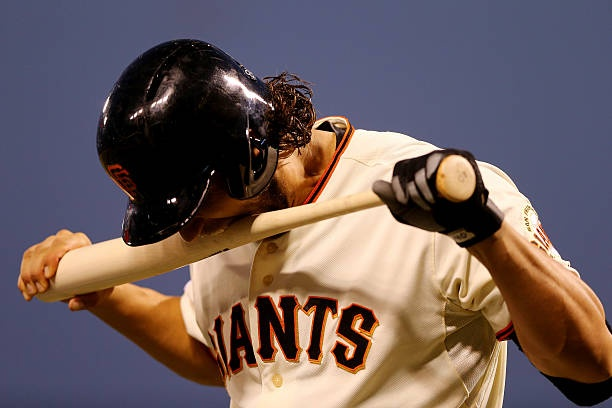bita: (32, 153, 463, 300)
